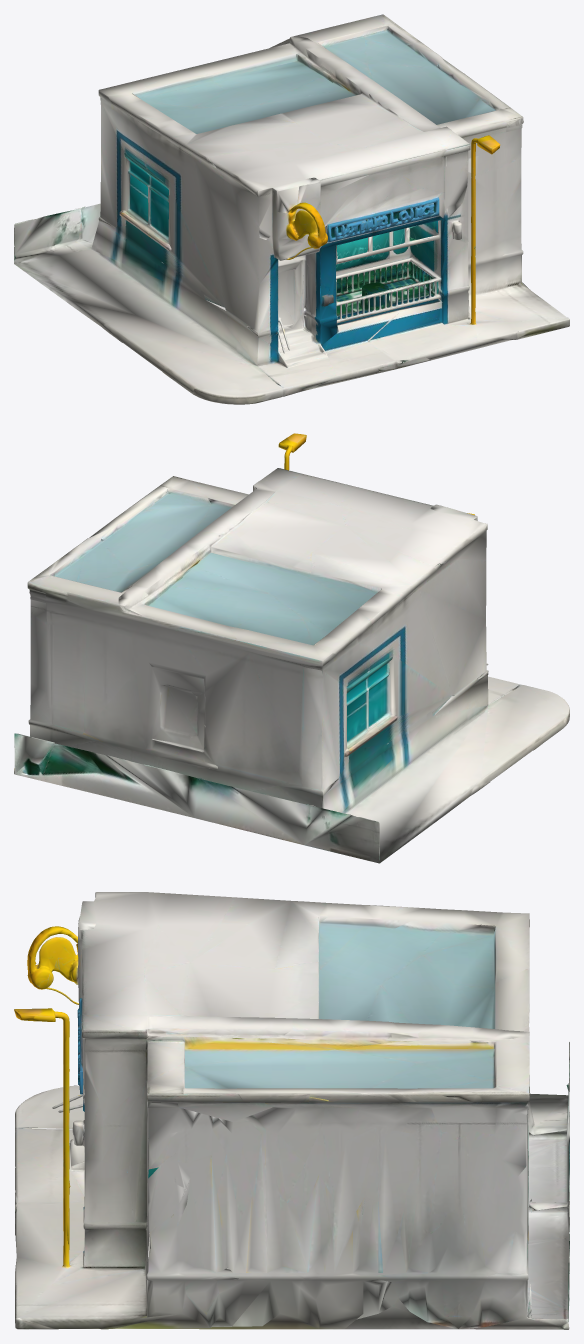
File: listening_lounge.glb
The picture shows the model from 3 angles, top to bottom: view 1: azimuth 30°, elevation 25°; view 2: azimuth 150°, elevation 25°; view 3: azimuth 270°, elevation 25°; orthographic projection. The views are drawn at different scales.
Parts seen in each view (by area): view 1: Mesh_0; view 2: Mesh_0; view 3: Mesh_0.
Part boxes in pixels (x1,y1,x2,y2): Mesh_0: (14, 14, 569, 404); Mesh_0: (14, 433, 569, 863); Mesh_0: (14, 892, 569, 1329).
Bounding box in the file's own units: 6.55 × 3.5 × 6.53.
1 material, 1 textured.
